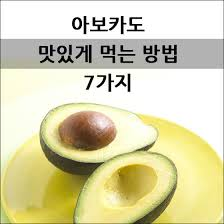avocado: (40, 101, 158, 172), (72, 150, 179, 223)
